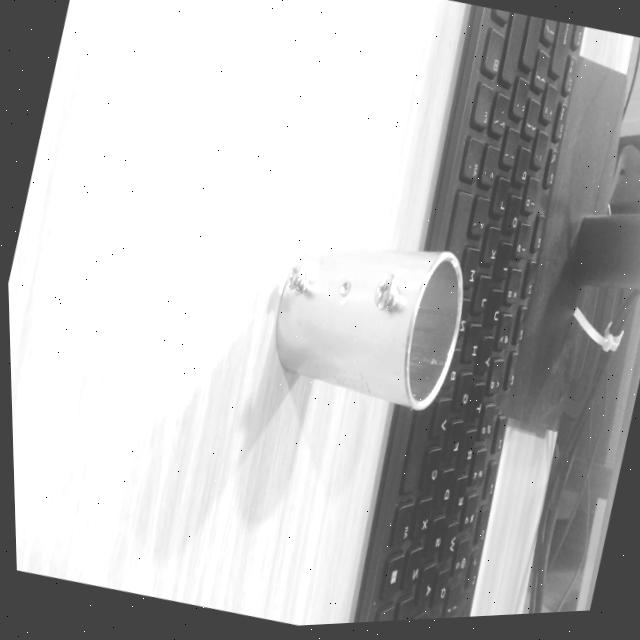Co_Lon: (263, 215, 476, 414)
